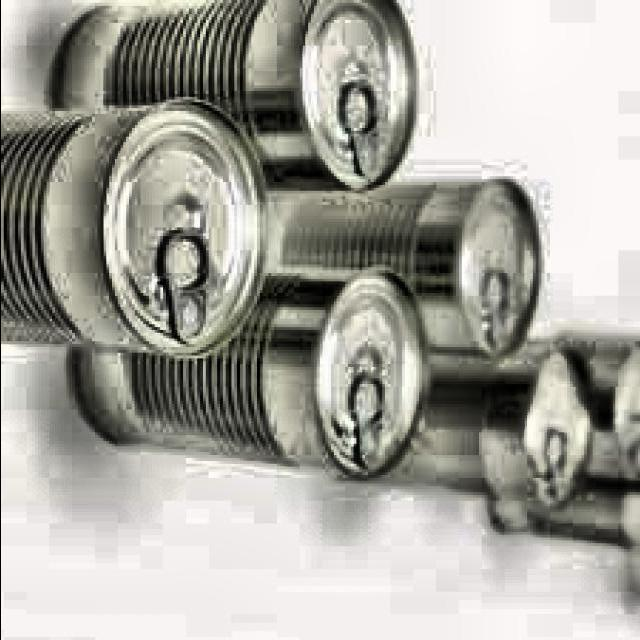litter: (66, 260, 436, 487), (45, 0, 428, 202), (0, 93, 283, 364), (256, 172, 546, 364), (338, 337, 598, 506)
